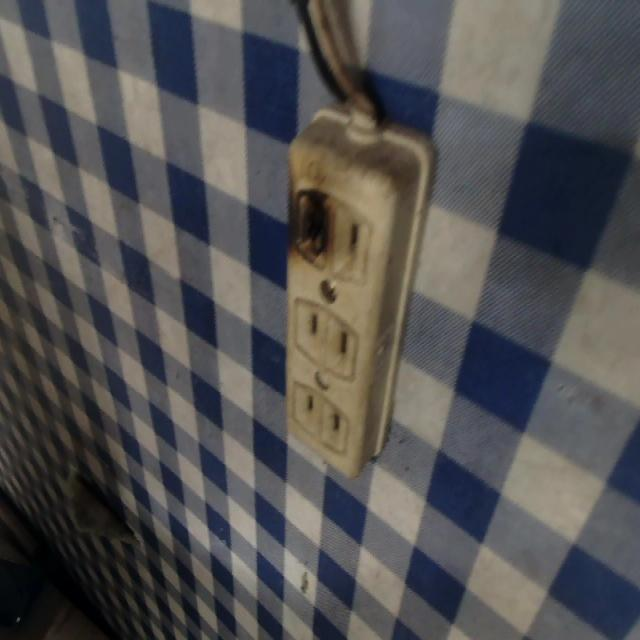-: (282, 170, 337, 270)
